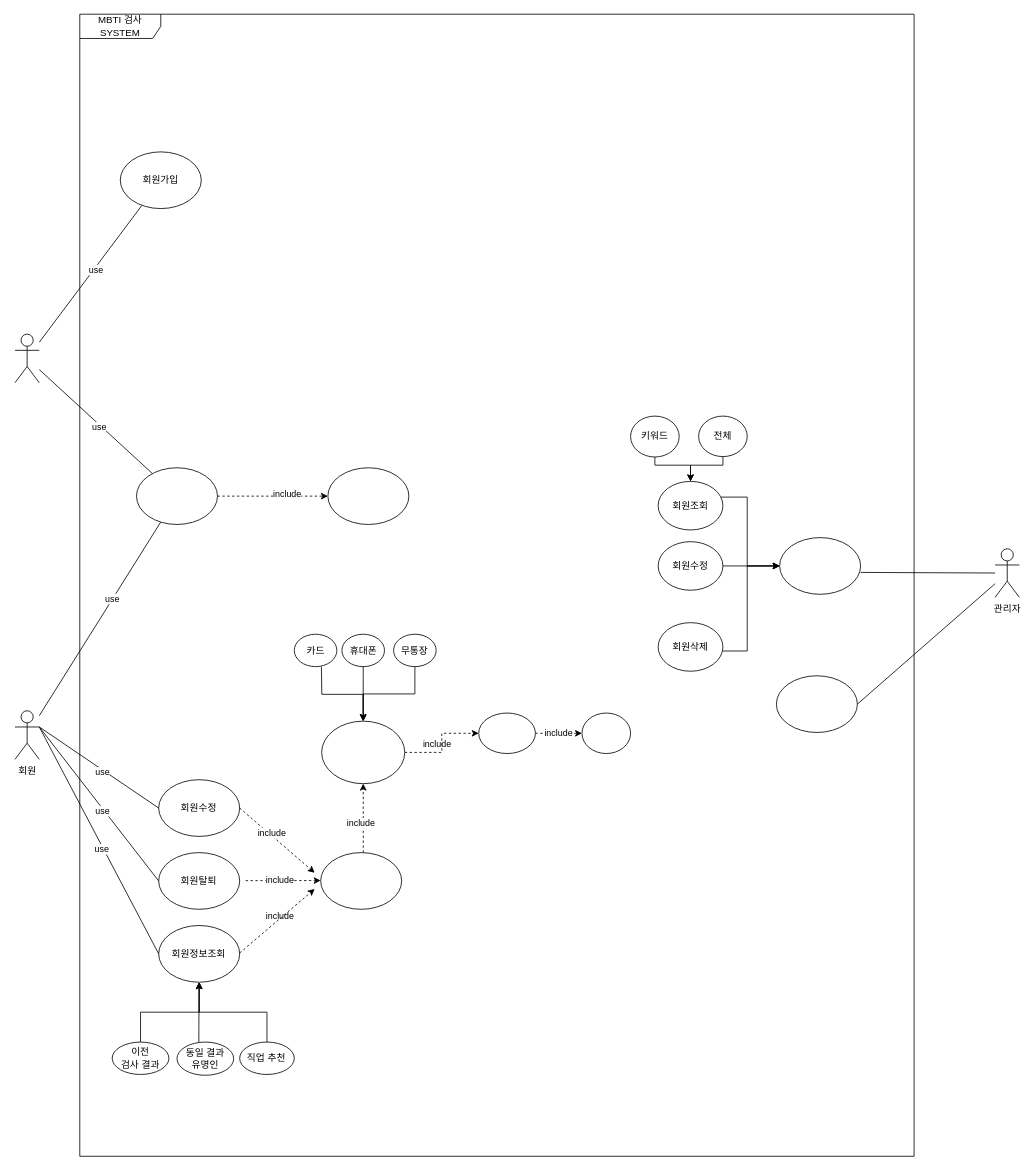
Image size: 1034x1170. Some labels were removed from this diagram. Each missing label, with the centre of its shape:
검사: point (176, 495)
검사 결과: point (368, 495)
로그인: point (361, 880)
매칭: point (506, 733)
모니터링: point (816, 703)
비회원: point (26, 358)
유료결제: point (363, 752)
채팅: point (606, 733)
회원관리: point (820, 565)
